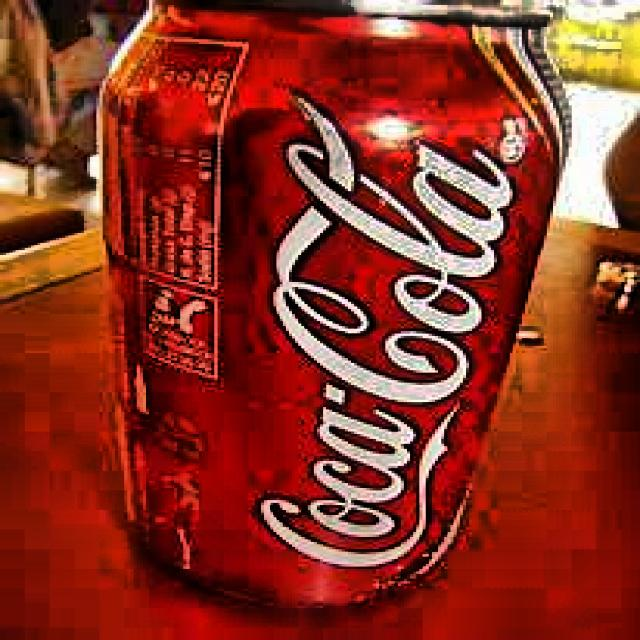Cans: (84, 0, 577, 625)
